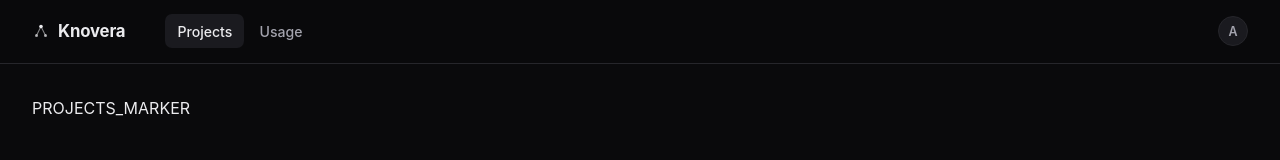
AppShell account menu (Phase 4D.1) › G: pressing Escape closes the open menu
The width and height of the screenshot is (1280, 160).
Click the button named "Account menu".
click(1233, 31)  # box [1218,16,1248,46]
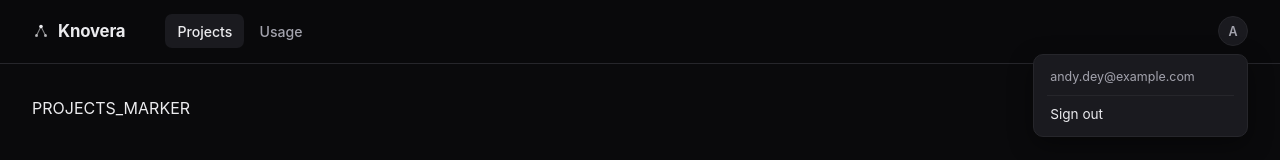
Result: the menu is shown at [1033,54,1248,137]
Press Escape
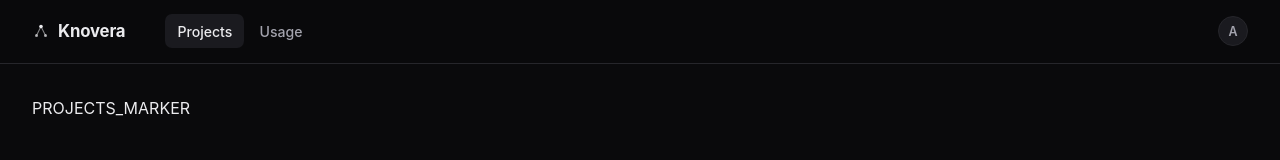
Result: the menu is gone
